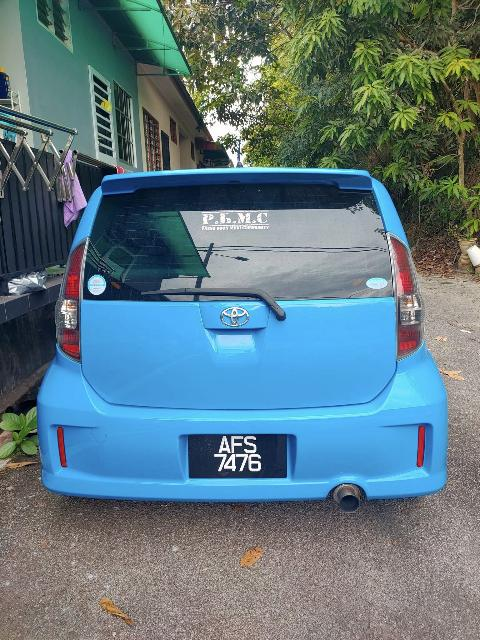License_Plate: (194, 433, 281, 485)
car: (39, 153, 445, 503)
